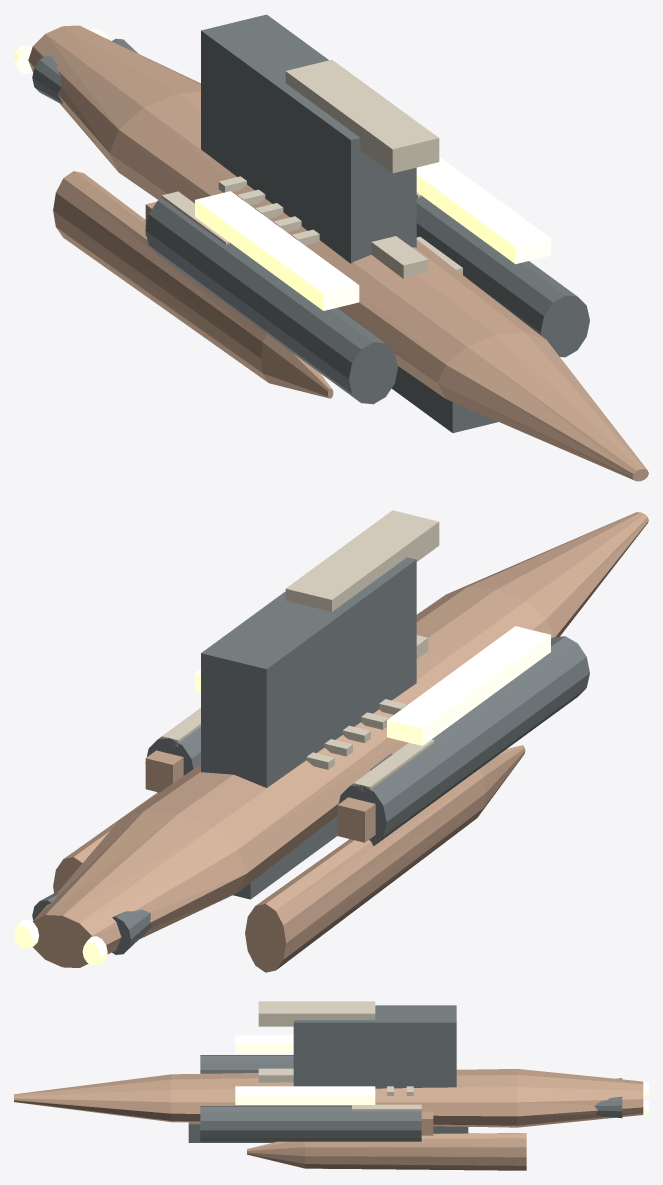
3 renders of one model, top to bottom at view 1: azimuth 30°, elevation 25°; view 2: azimuth 150°, elevation 25°; view 3: azimuth 270°, elevation 25°, orthographic. The views are drawn at different scales.
Bounding box in the file's own units: 2.99 × 3 × 12.53.
